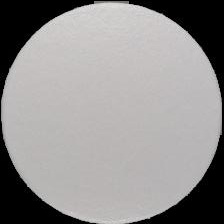68387-166: (0, 0, 224, 224)
